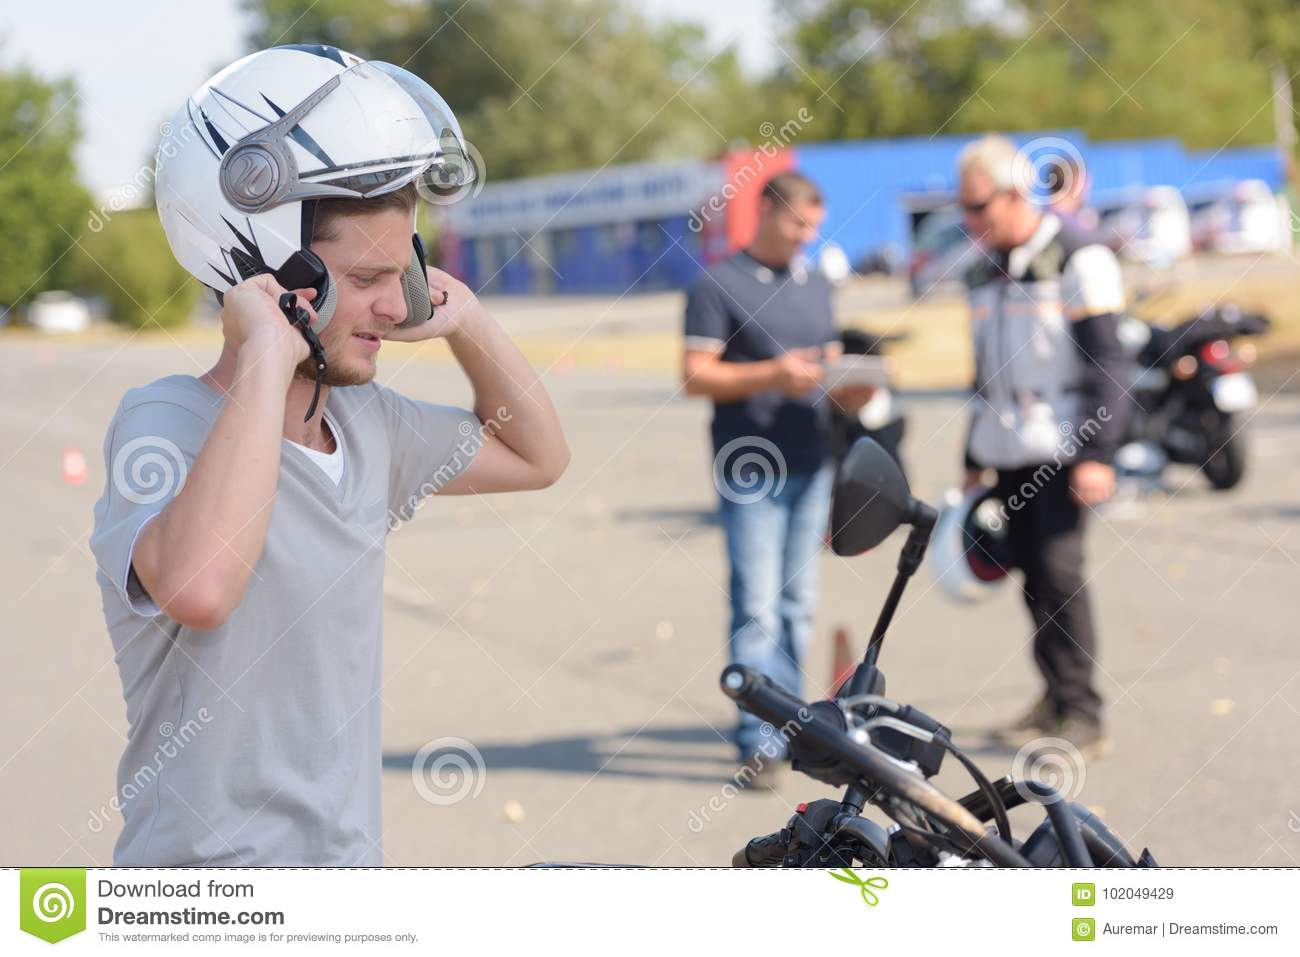helmet: (130, 54, 488, 271)
